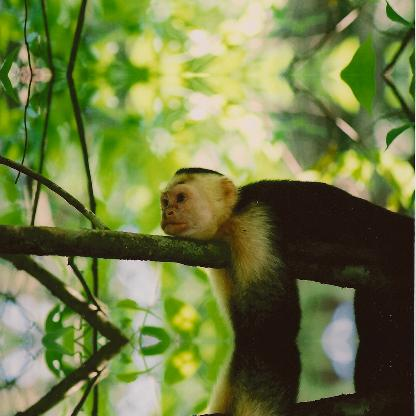Monkey: (162, 166, 414, 340), (161, 341, 415, 415)
